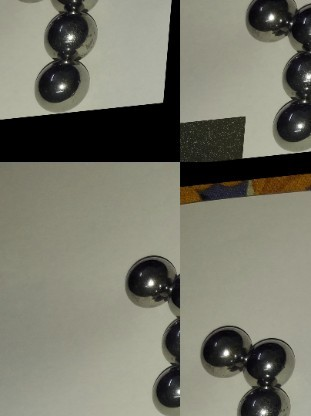ironball: (240, 328, 296, 393), (30, 56, 96, 110), (123, 248, 173, 313), (201, 321, 252, 381), (180, 119, 251, 162), (42, 10, 101, 61), (244, 0, 297, 43), (268, 98, 309, 150), (277, 48, 309, 104), (235, 386, 297, 414), (150, 361, 180, 416), (284, 0, 311, 52), (157, 314, 180, 365), (48, 0, 95, 18)
